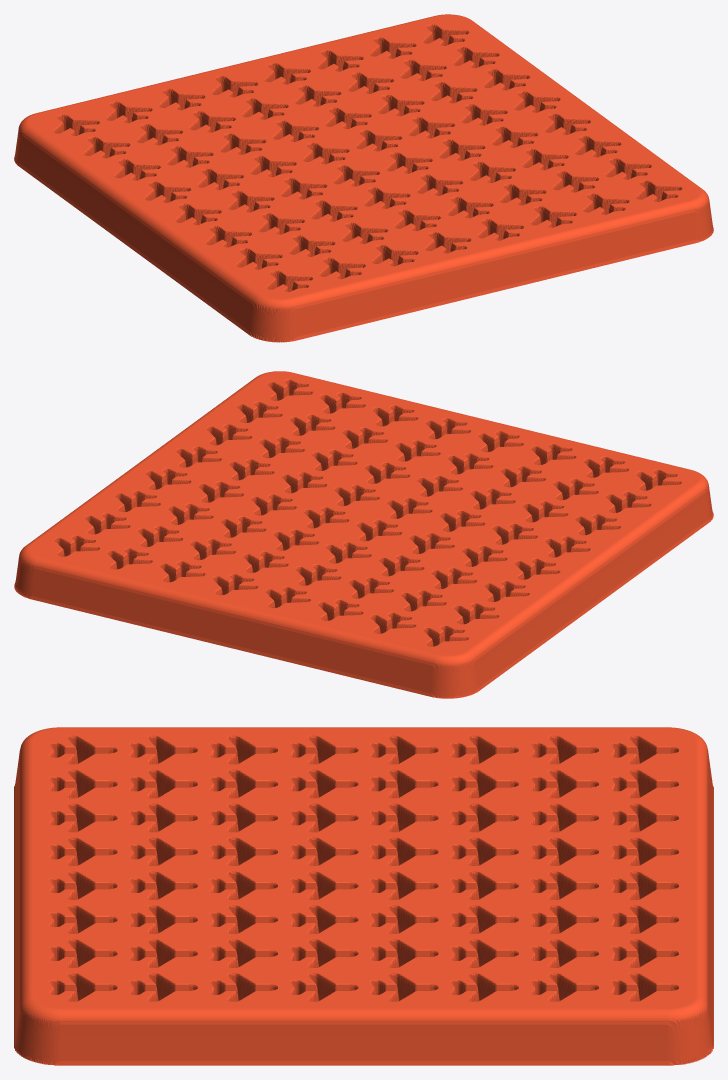
Rendered from mold.glb.
The picture shows the model from 3 angles, top to bottom: view 1: azimuth 30°, elevation 25°; view 2: azimuth 150°, elevation 25°; view 3: azimuth 270°, elevation 25°; orthographic projection. The views are drawn at different scales.
Visible parts, largest first — view 1: geometry_0; view 2: geometry_0; view 3: geometry_0.
Part boxes in pixels (<box>): geometry_0: <box>14,14,713,342</box>; geometry_0: <box>14,371,713,698</box>; geometry_0: <box>14,727,713,1065</box>.
Bounding box in the file's own units: 0.1355 × 0.0105 × 0.1355.
